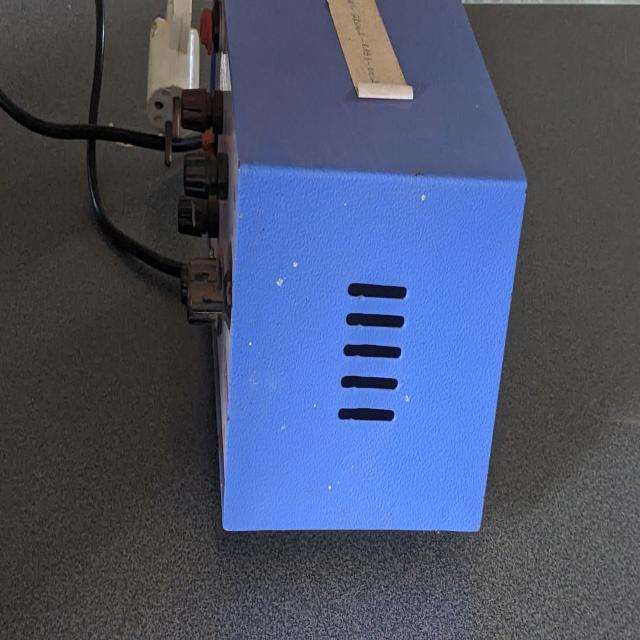Analog DC Power Supply: (178, 53, 528, 550)
